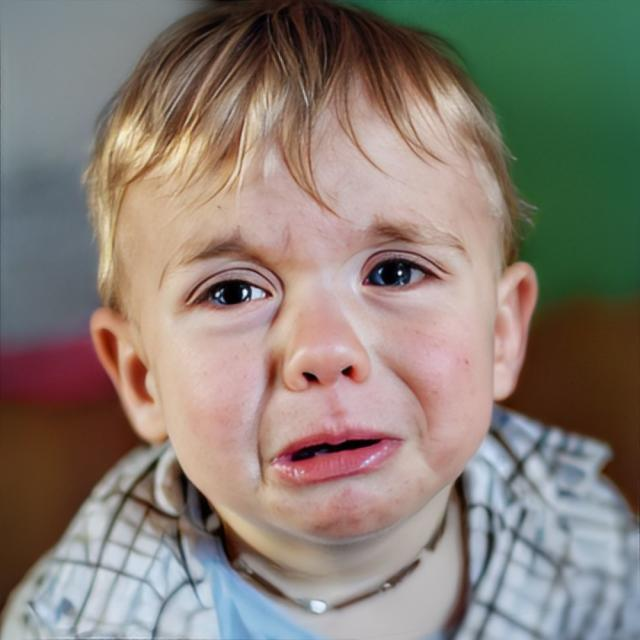sad: (123, 63, 497, 546)
